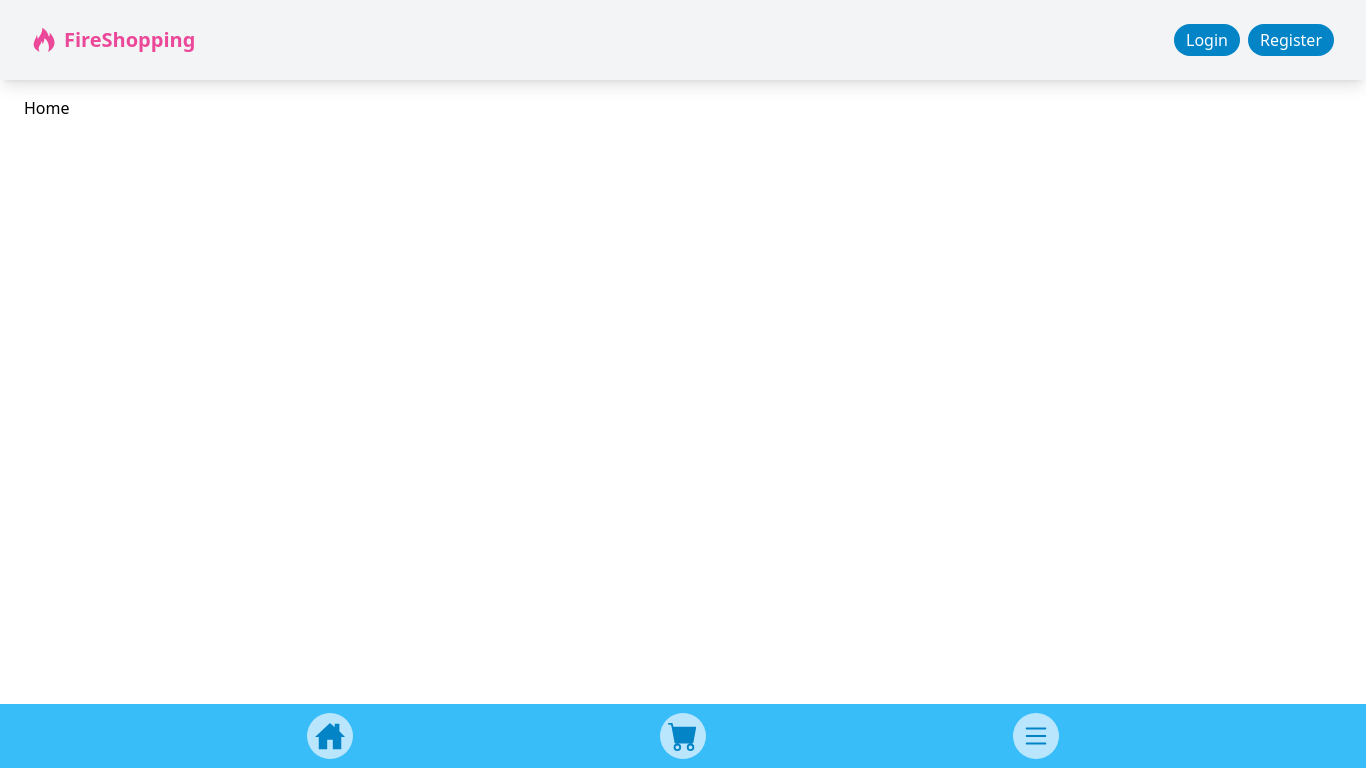
Test case: Testing user login › Can acces register route
Expected: the text "Regístrate y empieza a disfrutar de FireShopping" is not shown
Click the button "Register" at (1291, 40), box 1248,24 -> 1334,56
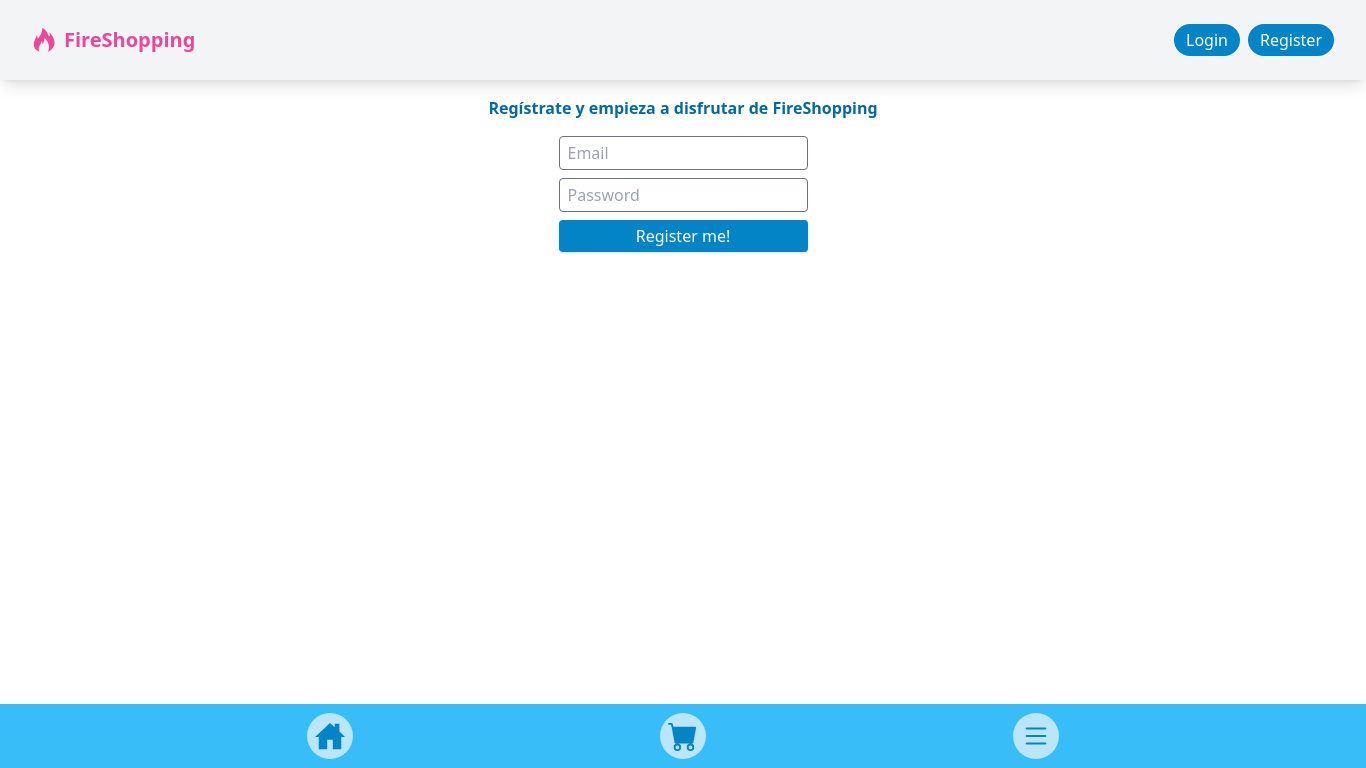
Result: the heading "Regístrate y empieza a disfrutar de FireShopping" is shown at 488,96 -> 878,120
